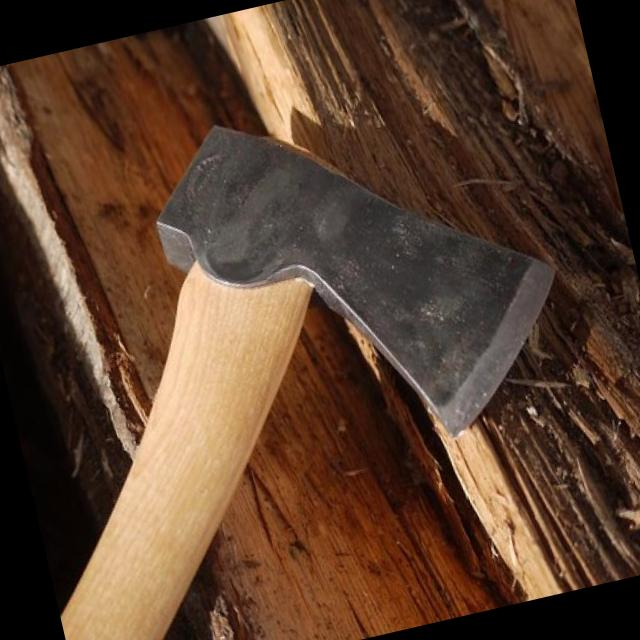Axe: (60, 127, 553, 640)
